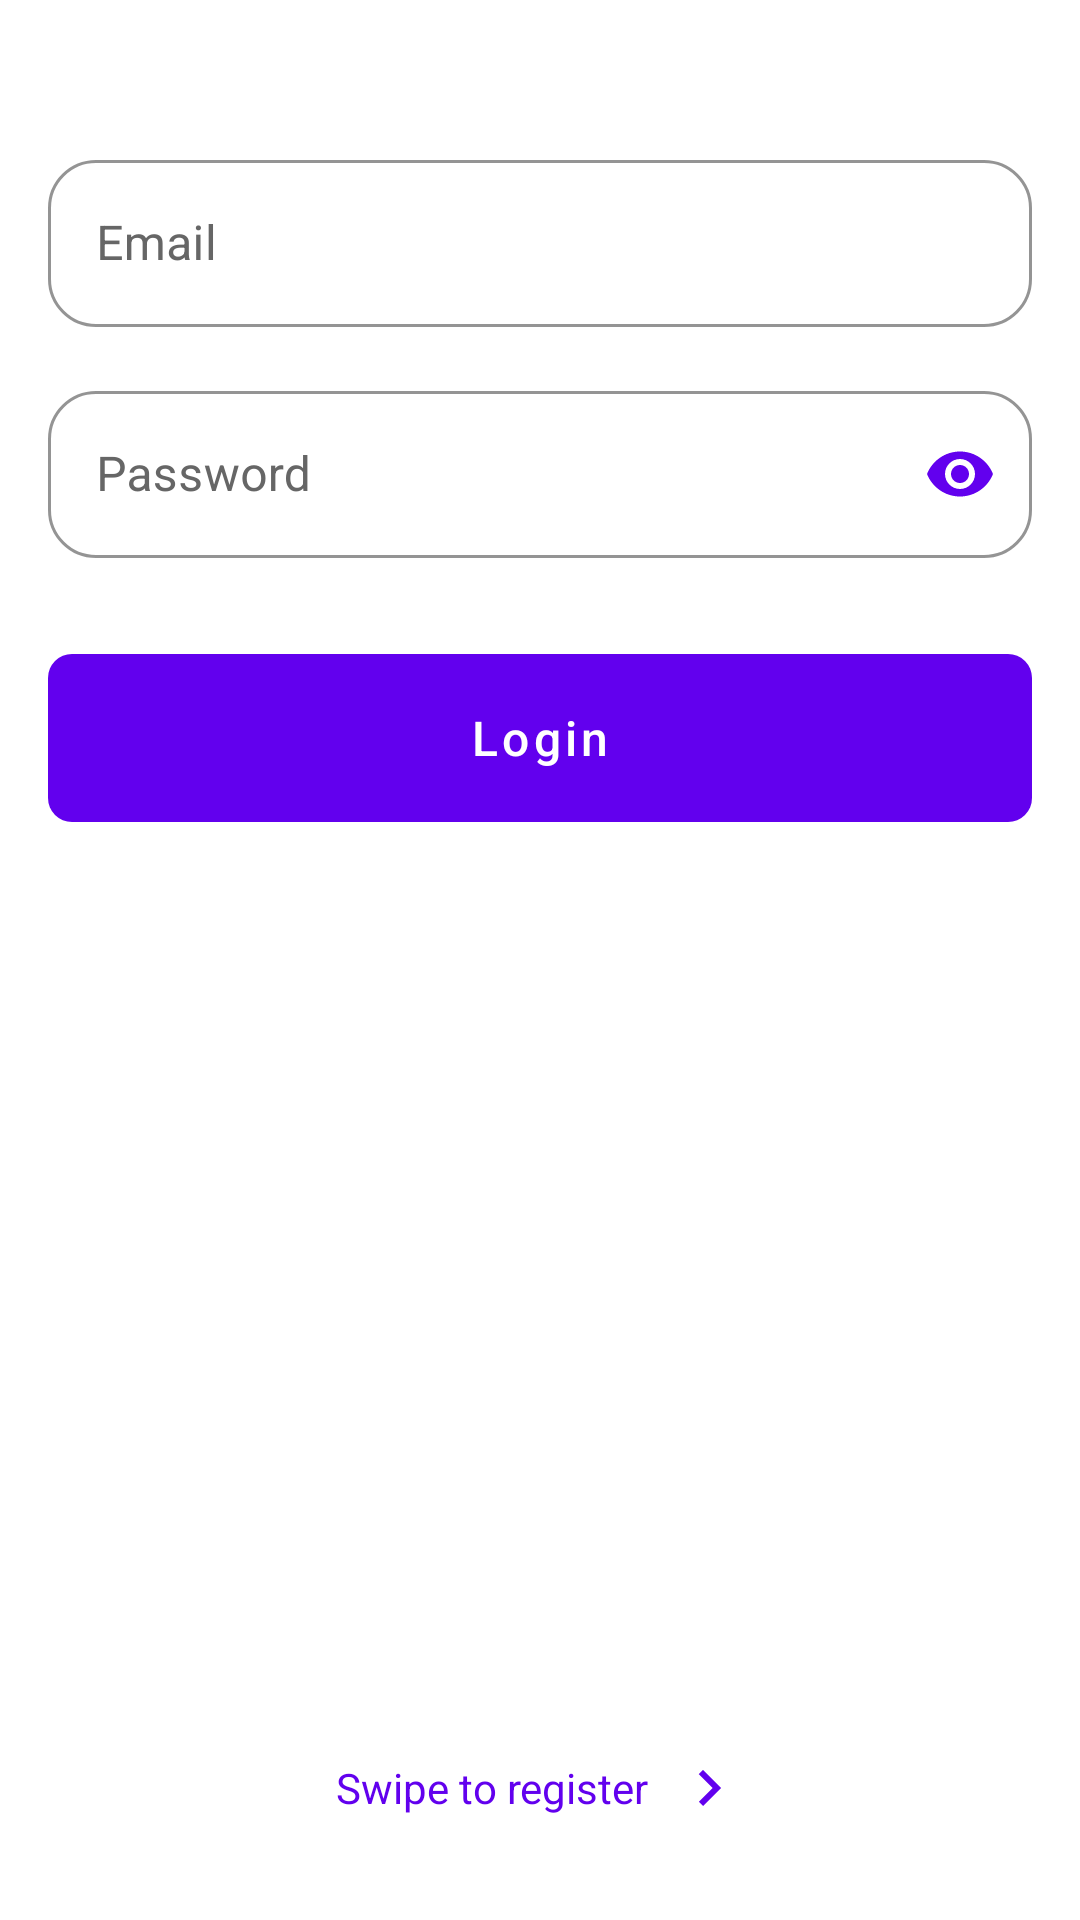

Icons on this 1080×1920 Android screen, each with the point to tap as (x=x, y=y):
arrow right: (x=710, y=1788)
